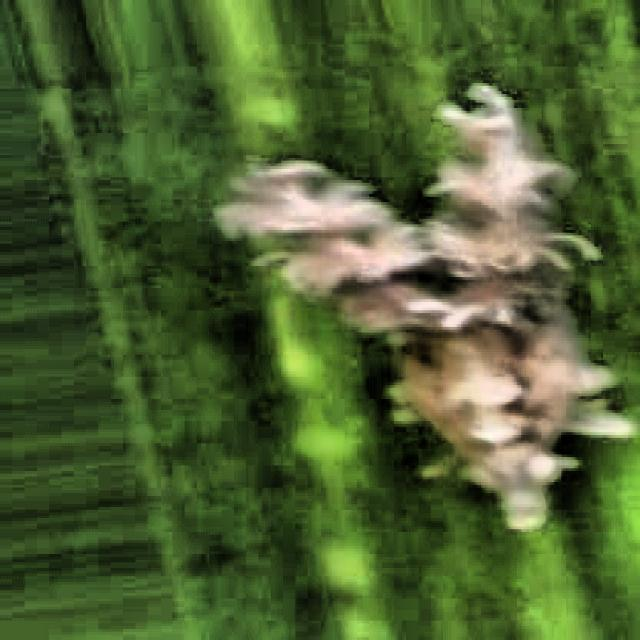Pyrilla-perpusilla: (178, 67, 634, 622)
